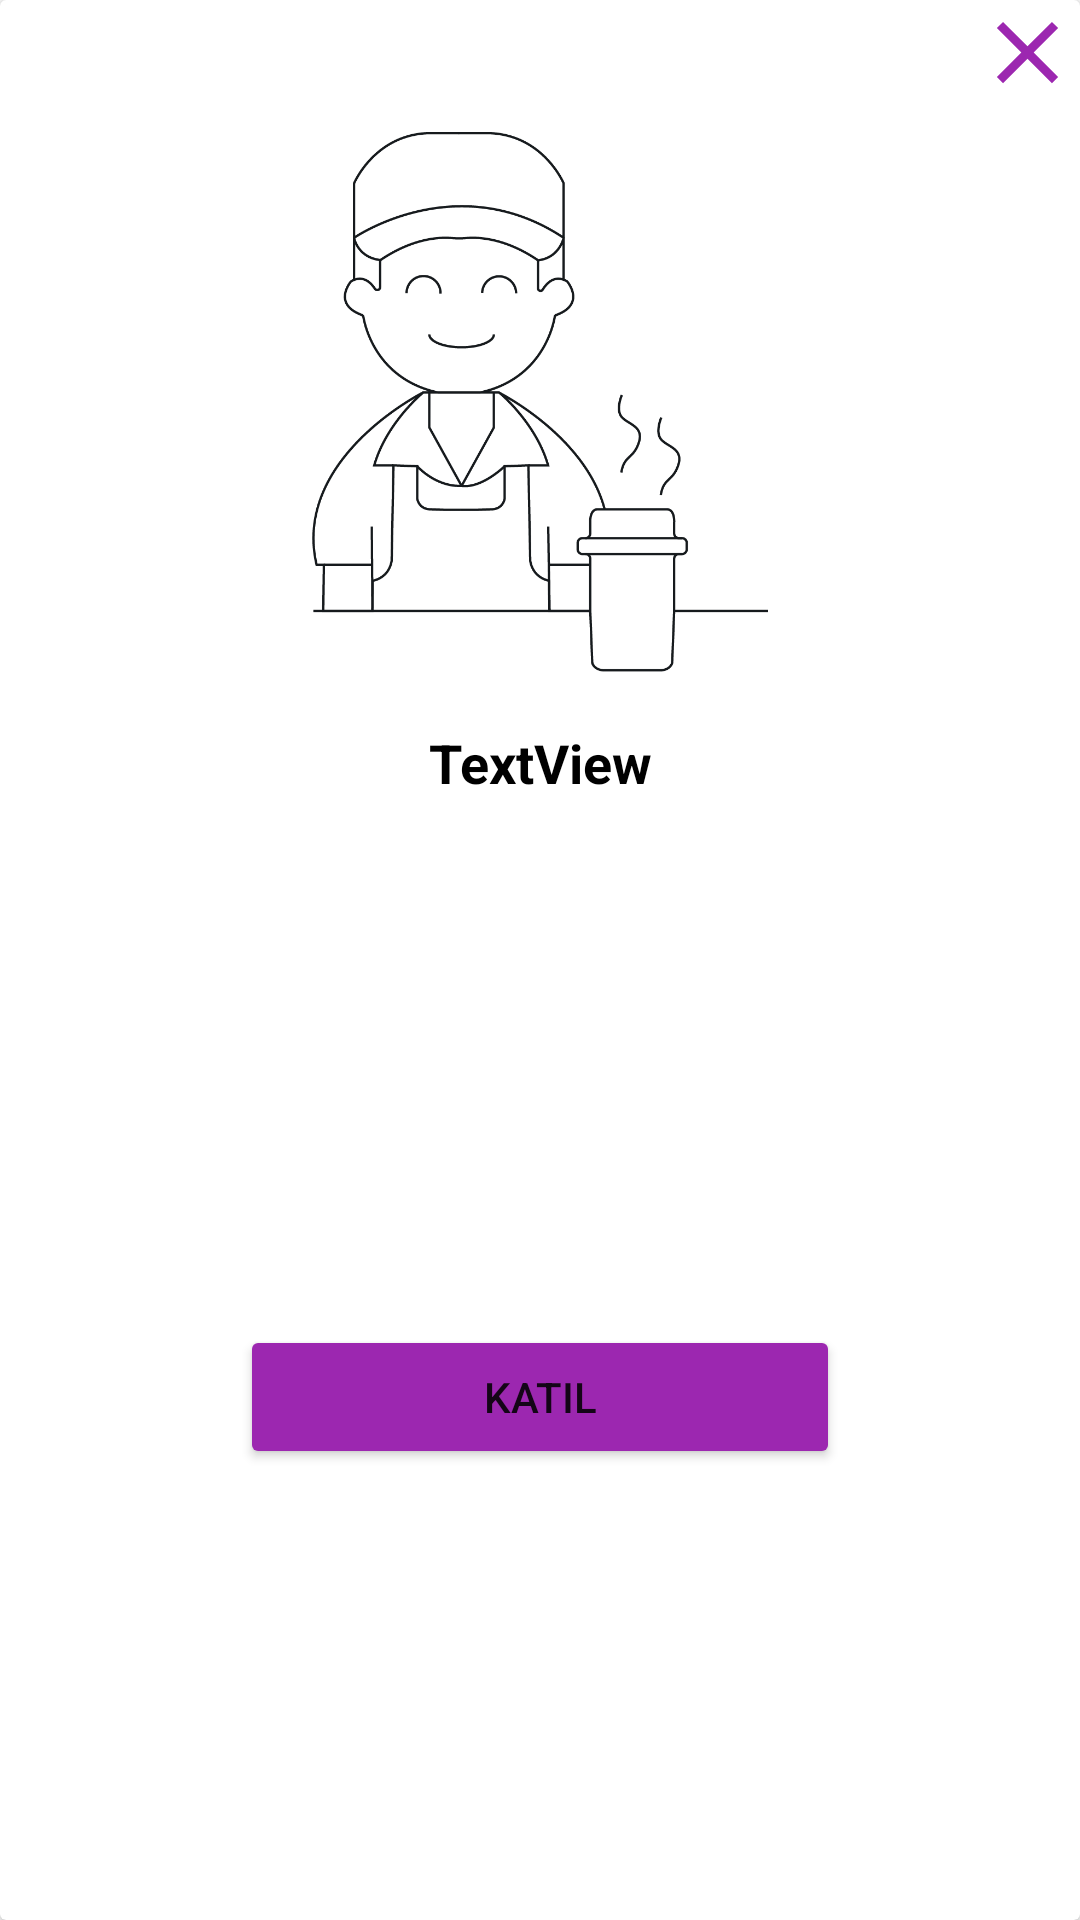

Named icons in this screenshot (1080 × 1920) and their bounding boxes, (x1, y1, x2, y2):
close: (997, 1, 1080, 83)
